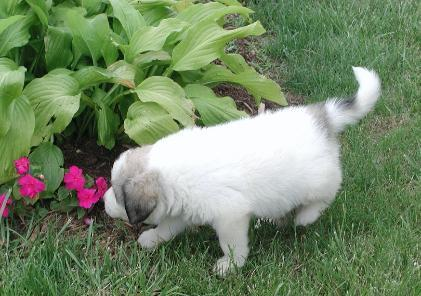Great_Pyrenees: (95, 65, 382, 278)
